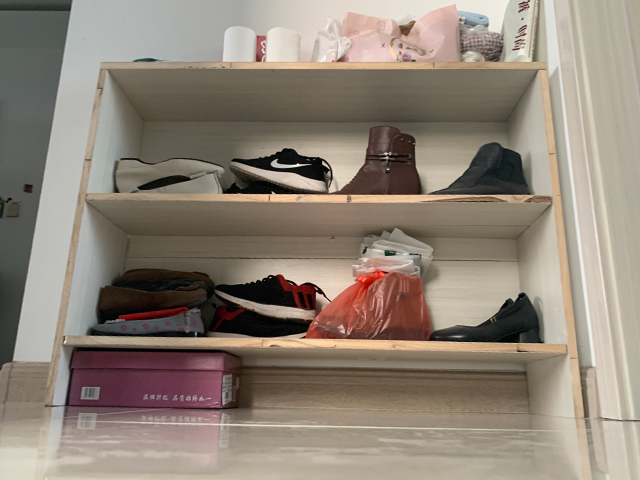cabinet: (43, 61, 588, 418)
